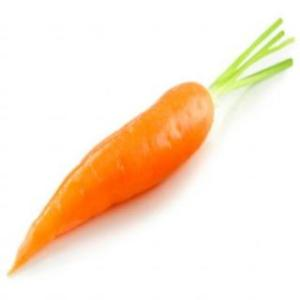carrot: (9, 64, 222, 294)
